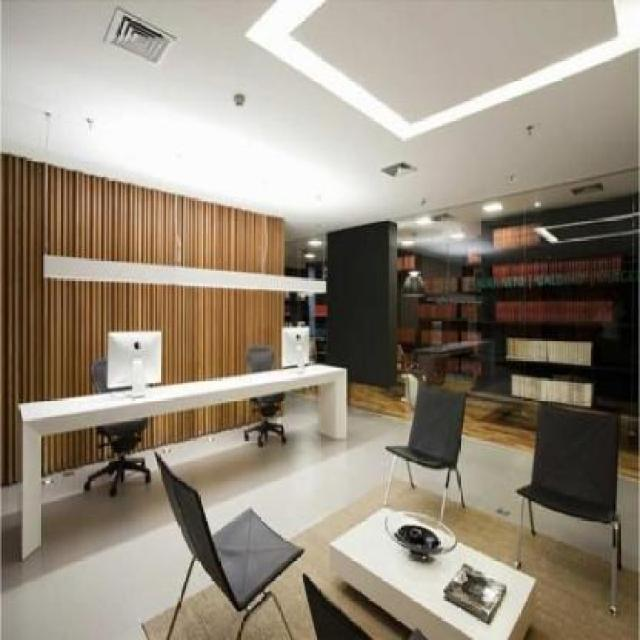frontdesk: (3, 343, 355, 574)
